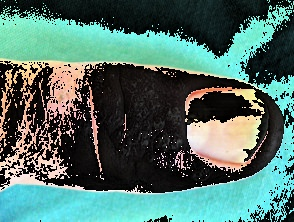Nail_psoriasis: (212, 85, 276, 171)
